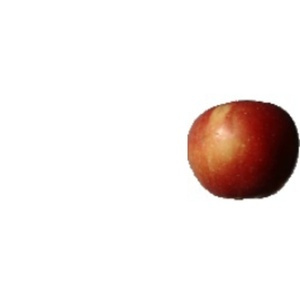maçã braeburn: (184, 99, 300, 202)
